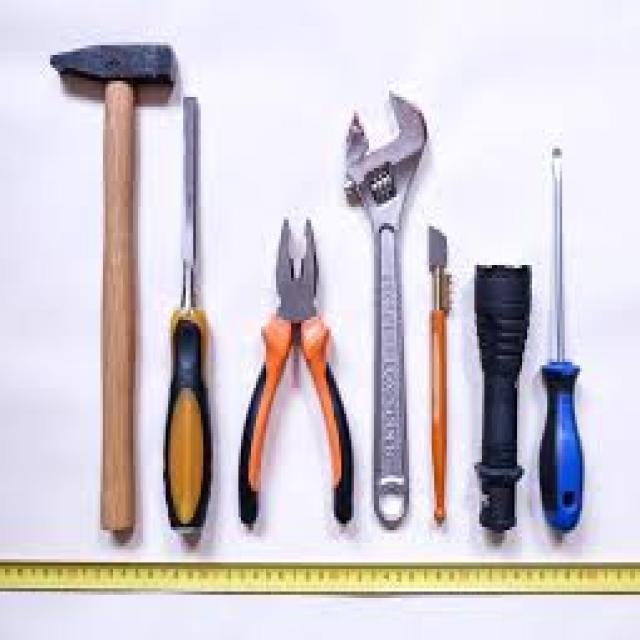hammer: (43, 31, 179, 546)
pliers: (235, 212, 358, 548)
screwdriver: (162, 90, 215, 544), (534, 140, 590, 544)
wrench: (341, 80, 432, 544)
